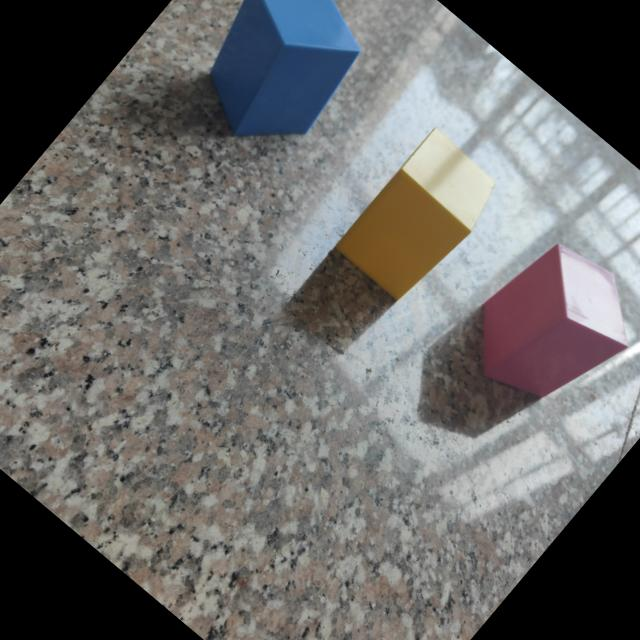blue: (208, 0, 360, 138)
pink: (477, 245, 627, 401)
yellow: (332, 129, 493, 302)
